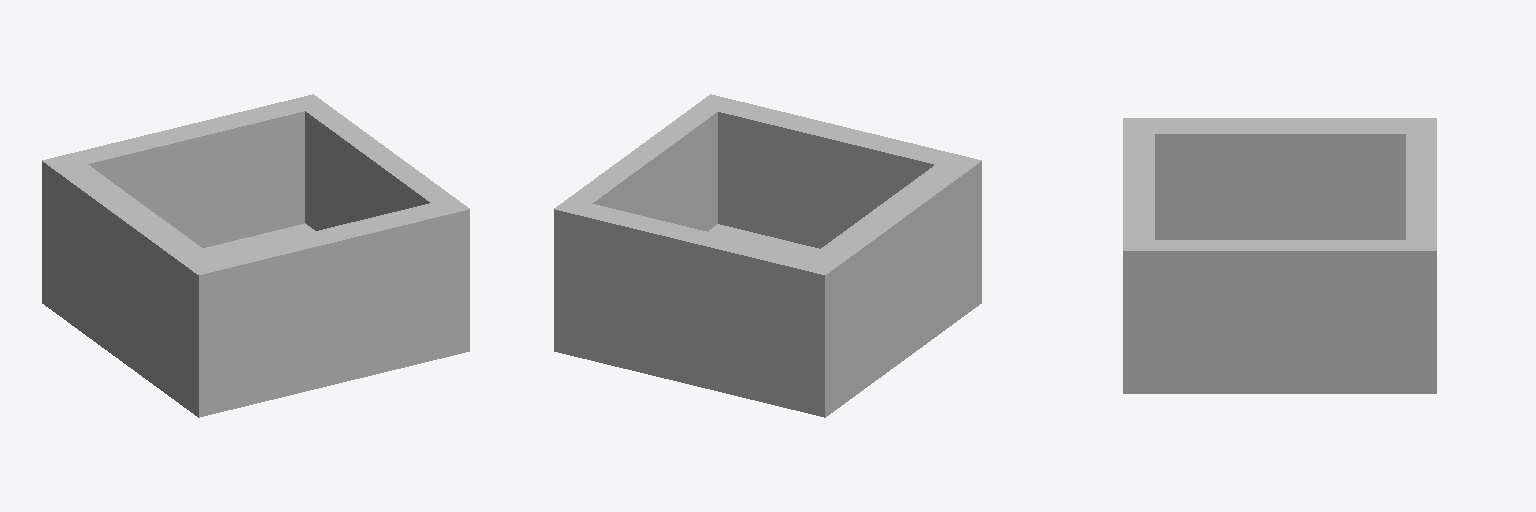
The model's file is containerNoHoles.obj.
The picture shows the model from 3 angles: view 1: azimuth 30°, elevation 25°; view 2: azimuth 150°, elevation 25°; view 3: azimuth 270°, elevation 25°; orthographic projection.
Visible parts, largest first — view 1: polySurface8; view 2: polySurface8; view 3: polySurface8.
Boxes of the visible parts, x1,y1,x2,y2 form: polySurface8: [42, 94, 469, 417]; polySurface8: [554, 94, 981, 417]; polySurface8: [1123, 118, 1436, 393].
Bounding box in the file's own units: 10 × 5 × 10.